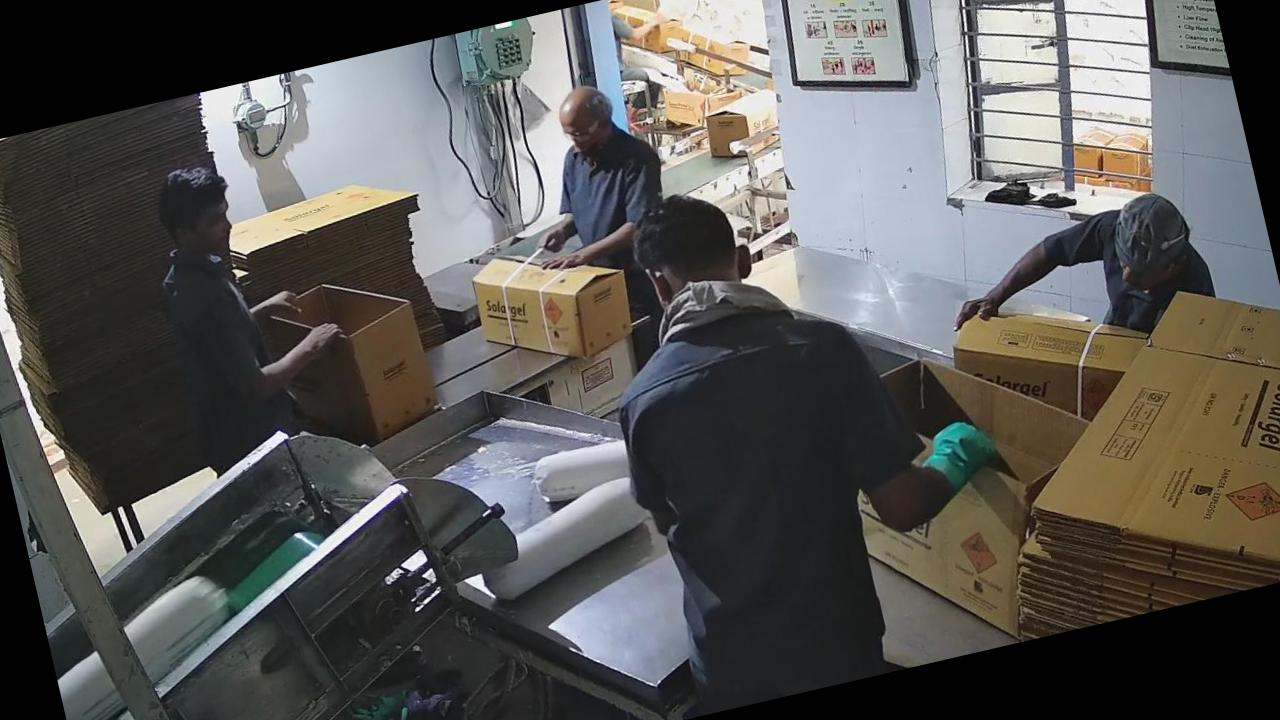Gloves: (892, 393, 1018, 514)
No-gloves: (916, 218, 1087, 354), (220, 314, 358, 400), (534, 216, 656, 294), (526, 202, 612, 284)
